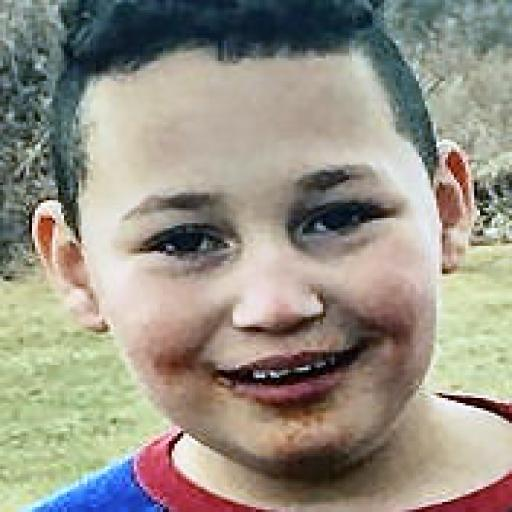Autism: (11, 7, 512, 512)
